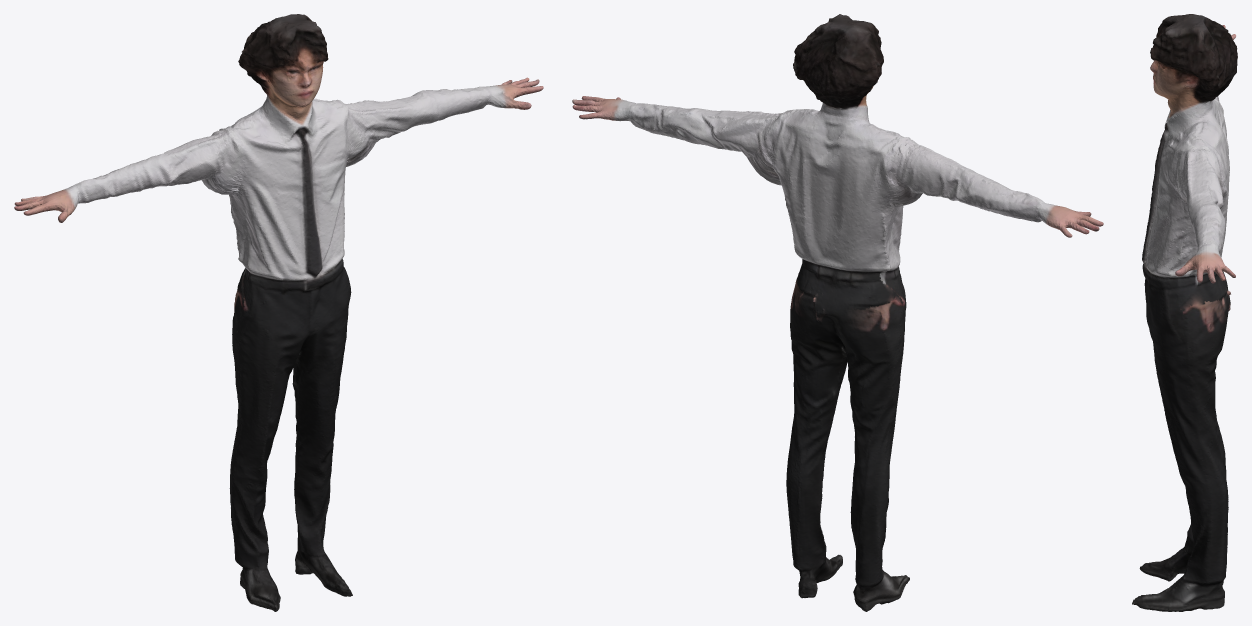
File: animation_lowres.obj
3 views of the same model, side by side, from view 1: azimuth 30°, elevation 25°; view 2: azimuth 150°, elevation 25°; view 3: azimuth 270°, elevation 25° (orthographic).
Size of the model in its own units: 1.76 by 1.82 by 0.3041.
